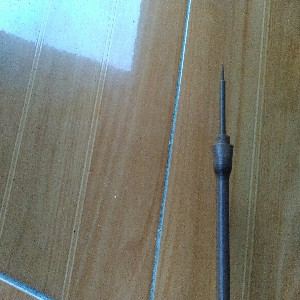solder: (210, 64, 235, 300)
